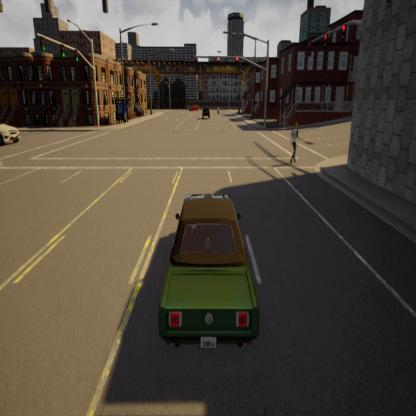Cars: (150, 183, 262, 366), (0, 110, 23, 152), (200, 102, 213, 121)
Pedestrian: (286, 117, 301, 165)
